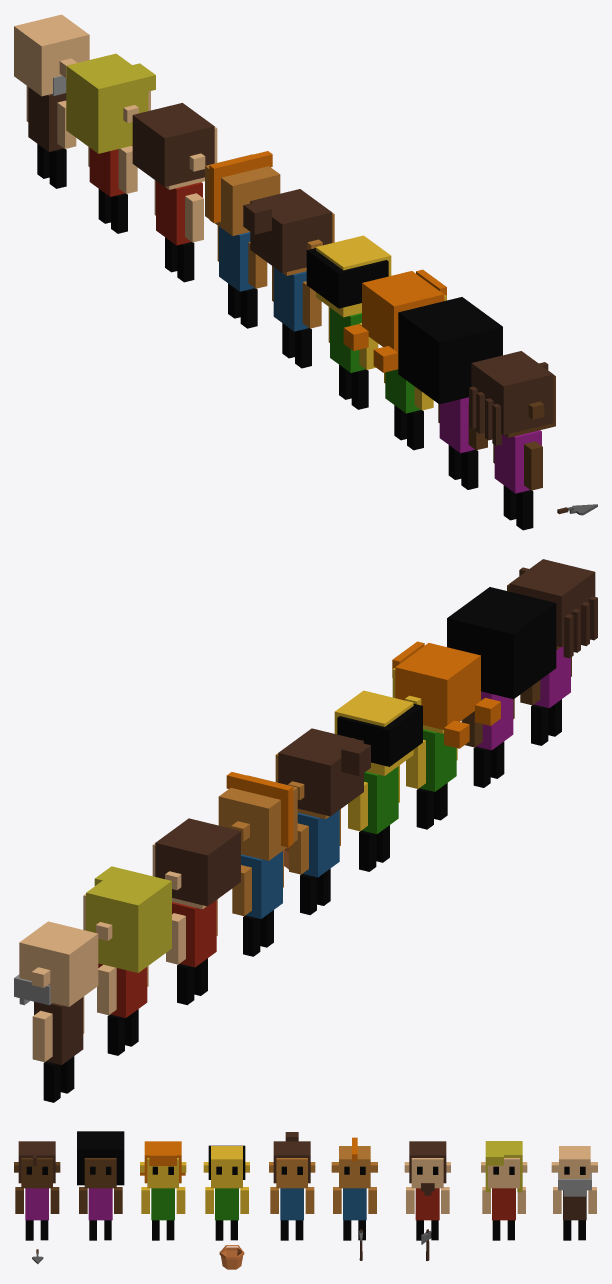
File: Perso-projecthappiness.fbx
3 renders of one model, top to bottom at view 1: azimuth 30°, elevation 25°; view 2: azimuth 150°, elevation 25°; view 3: azimuth 270°, elevation 25°, orthographic. The views are drawn at different scales.
Visible parts, largest first — view 1: Cube.082, Cube.013, Cube.010, Cube.094, Cube.035, Cube.056, Cube.070, Cube.033, Cube.058, Cube.067, Cube, Cube.104 (+19 smaller); view 2: Cube.082, Cube.013, Cube.010, Cube.070, Cube.035, Cube.056, Cube.033, Cube.094, Cube.058, Cube.067, Cube.057, Cube (+17 smaller); view 3: Cube.082, Cube.067, Cube.033, Cube.056, Cube.091, Cube.044, Cube.103, Cube.001, Cube.010, Cube.035, Cube.092, Cube.094 (+35 smaller).
Boxes of the visible parts, x1,y1,x2,y2 form: Cube.082: (398,297,502,404); Cube.013: (66,53,148,153); Cube.010: (132,103,214,186); Cube.094: (471,351,553,435); Cube.035: (250,189,332,273); Cube.056: (14,14,89,96); Cube.070: (362,271,444,352); Cube.033: (205,154,280,236); Cube.058: (306,248,388,308); Cube.067: (316,235,391,317); Cube: (156,181,202,245); Cube.104: (494,430,541,493); Cube.082: (447,587,556,699); Cube.013: (86,868,171,972); Cube.010: (155,818,240,906); Cube.070: (395,643,480,729); Cube.035: (278,728,363,816); Cube.056: (19,921,98,1006); Cube.033: (218,775,297,860); Cube.094: (509,559,595,647); Cube.058: (337,703,422,766); Cube.067: (334,690,413,775); Cube.057: (34,997,83,1064); Cube: (172,900,216,967); Cube.082: (77,1131,124,1185); Cube.067: (211,1146,242,1188); Cube.033: (339,1146,370,1188); Cube.056: (559,1146,590,1178); Cube.091: (84,1158,116,1188); Cube.044: (276,1158,307,1188); Cube.103: (21,1158,52,1188); Cube.001: (411,1158,443,1188); Cube.010: (409,1141,446,1183); Cube.035: (273,1141,310,1183); Cube.092: (88,1188,112,1220); Cube.094: (18,1141,55,1183).
Size of the model in its own units: 314 by 385 by 1969.
